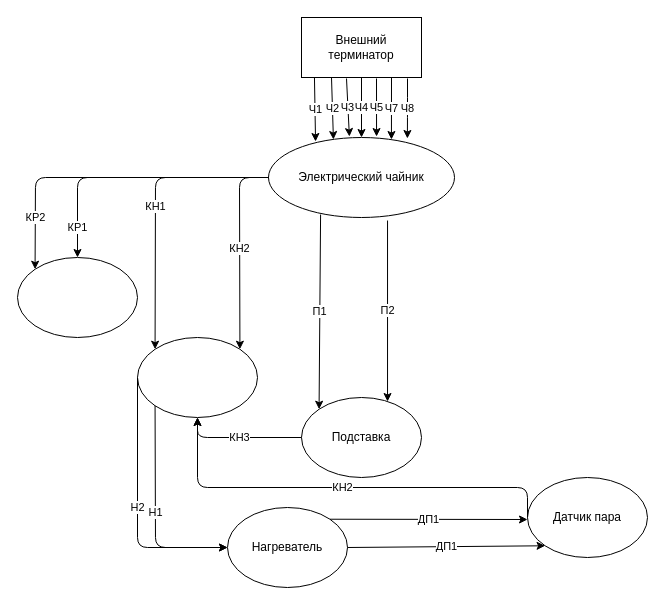
The diagram is 665 pixels wide and 605 high, and some of its shapes have lost their labels. Each missing label, with the box of its shape:
Кнопка: (136, 336, 258, 418)
Крышка: (16, 256, 138, 338)
